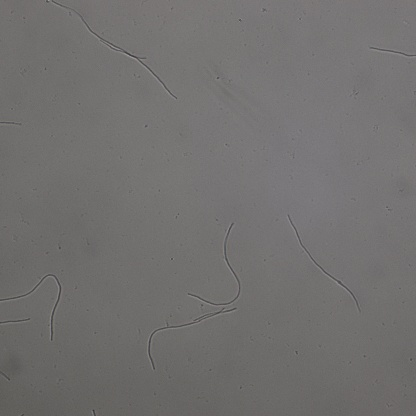Sensitive: (288, 215, 361, 314), (146, 308, 234, 370), (54, 1, 145, 60), (188, 223, 239, 306), (102, 42, 176, 99), (1, 271, 60, 340), (370, 45, 416, 62), (1, 313, 33, 329), (1, 116, 24, 128)
